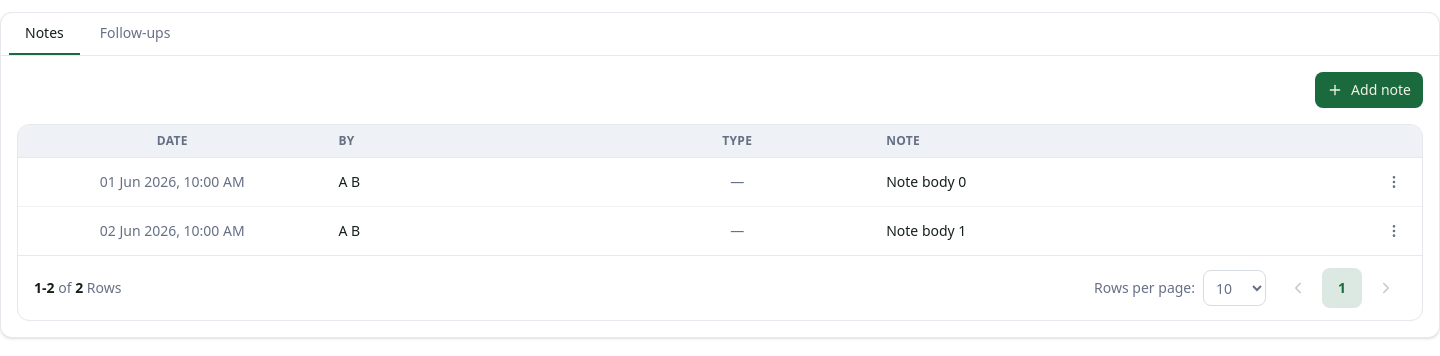
Test: LeadActivityTabs › shows Notes by default and switches to Follow-ups
Check: the text "Note body 0" is shown, box x1=886 y1=172 x2=966 y2=191
Check: the text "Reminder note 0" is not shown
What coordinates should you click on to do the following:
click the tab "Follow-ups"
I would click on:
 (135, 34)
Its box is x1=84 y1=13 x2=186 y2=55.
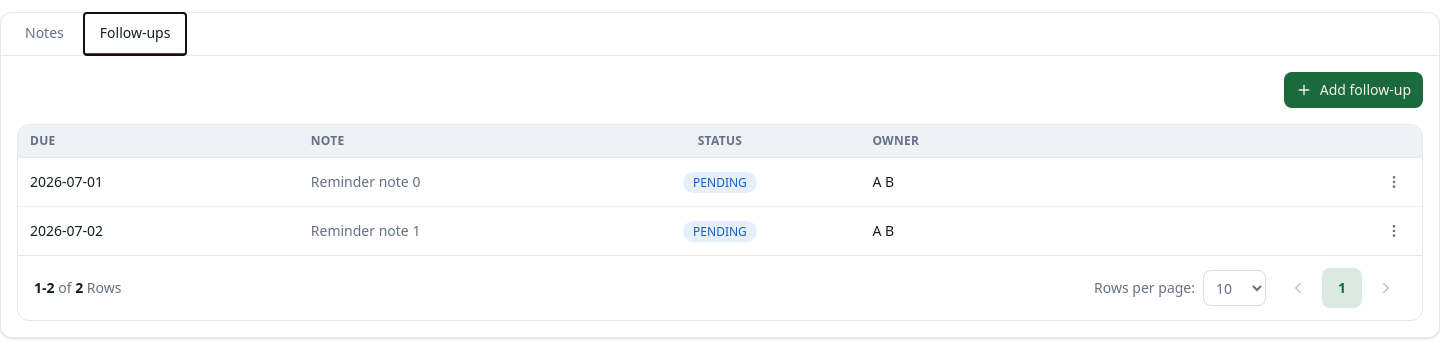
Check: the text "Reminder note 0" is shown, box x1=311 y1=172 x2=420 y2=191
Check: the text "Note body 0" is gone
